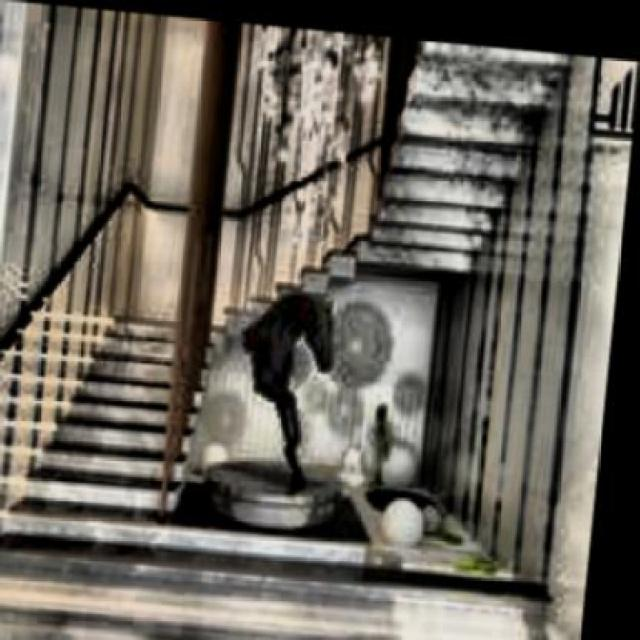stair: (11, 302, 212, 510)
